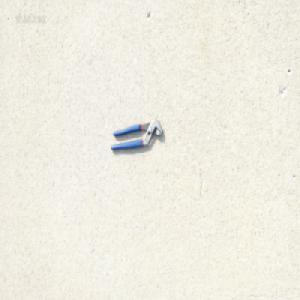Pliers: (109, 117, 163, 151)
